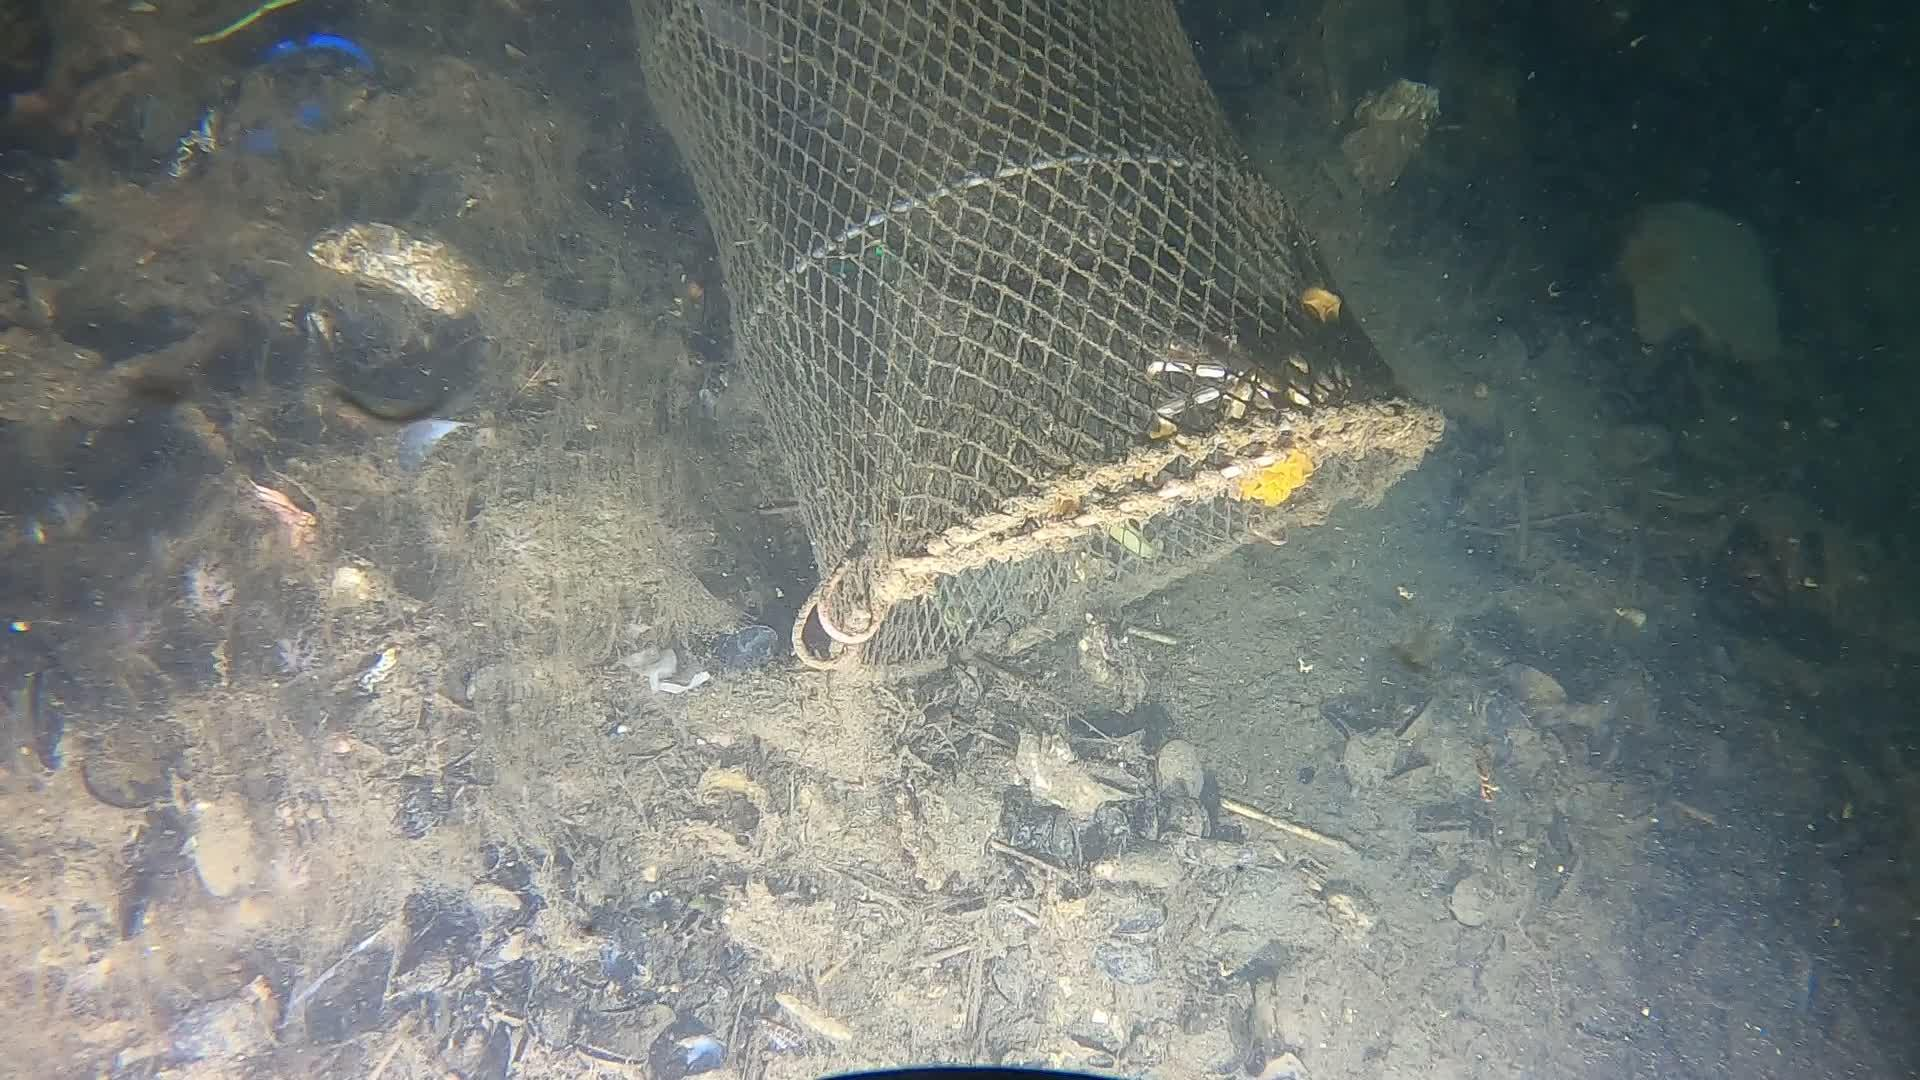spring fish trap: (626, 0, 1449, 684)
